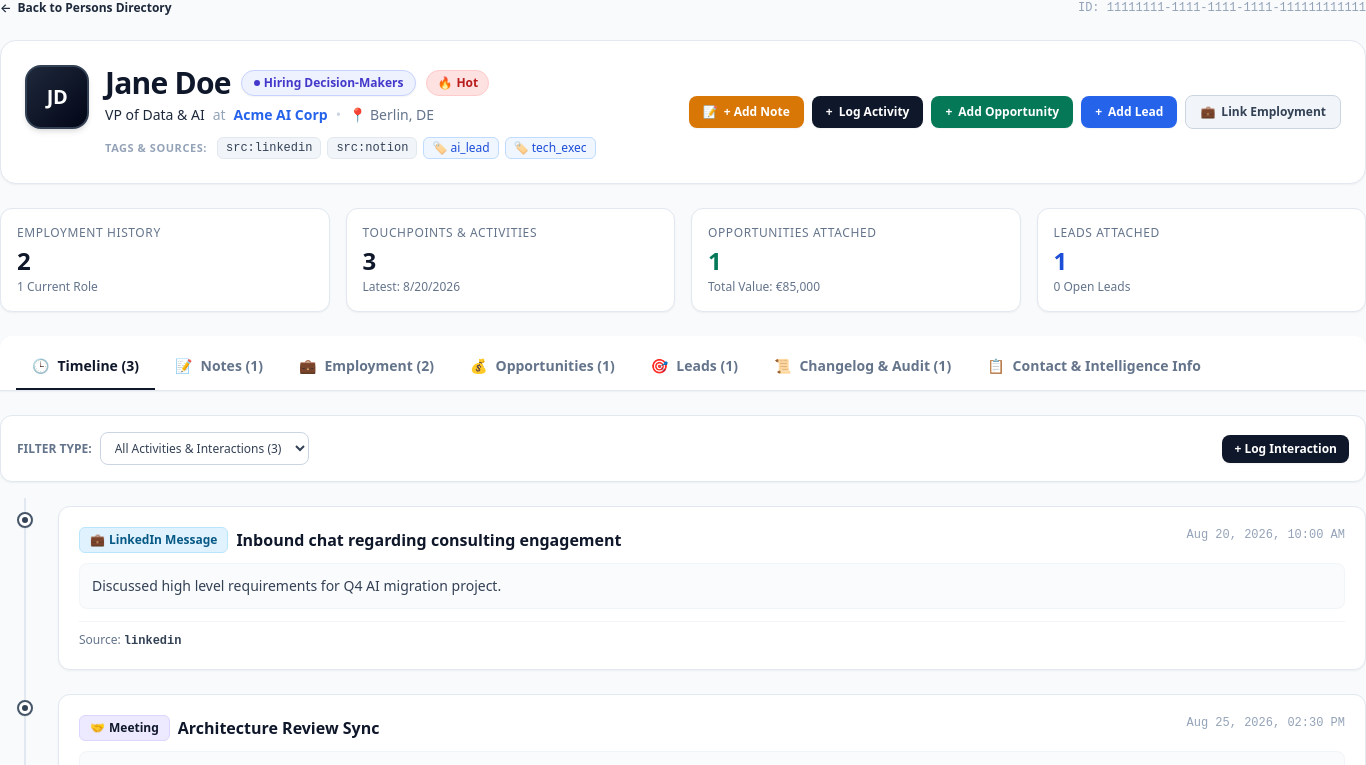
Test case: PersonDetailPage Full History and Pipeline Integration › opens and closes action modals including Add Note
The width and height of the screenshot is (1366, 765).
Expected: the heading "Jane Doe" is shown, [105,65,231,101]
Open Add Note modal
Click the text "+ Add Note".
click(757, 112)  # box [724,104,790,120]
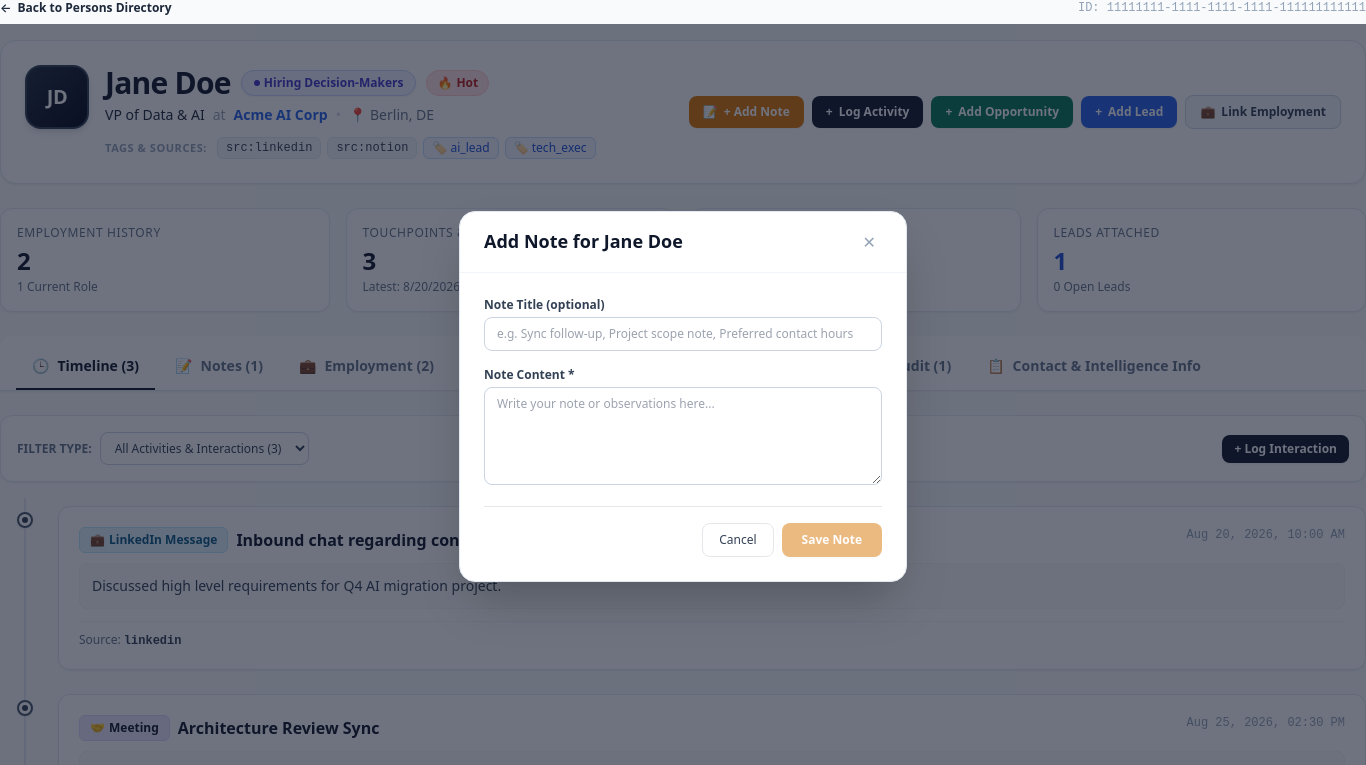
Now the heading "Add Note for Jane Doe" is shown, box [484,229,683,254]
Close modal
Click the button "Cancel".
click(738, 540)  # box [702,522,774,556]
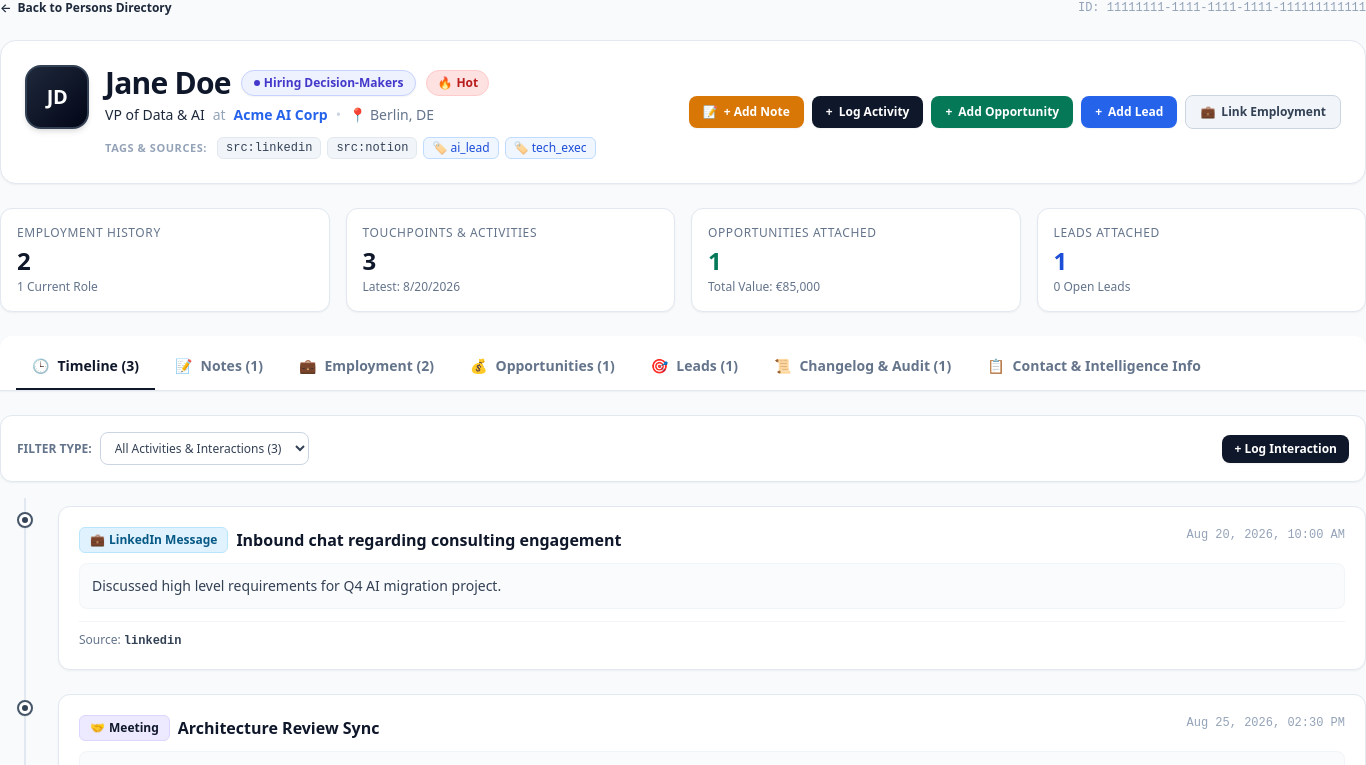
Now the heading "Add Note for Jane Doe" is gone
